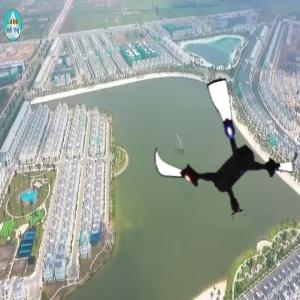drone: (151, 76, 300, 225)
